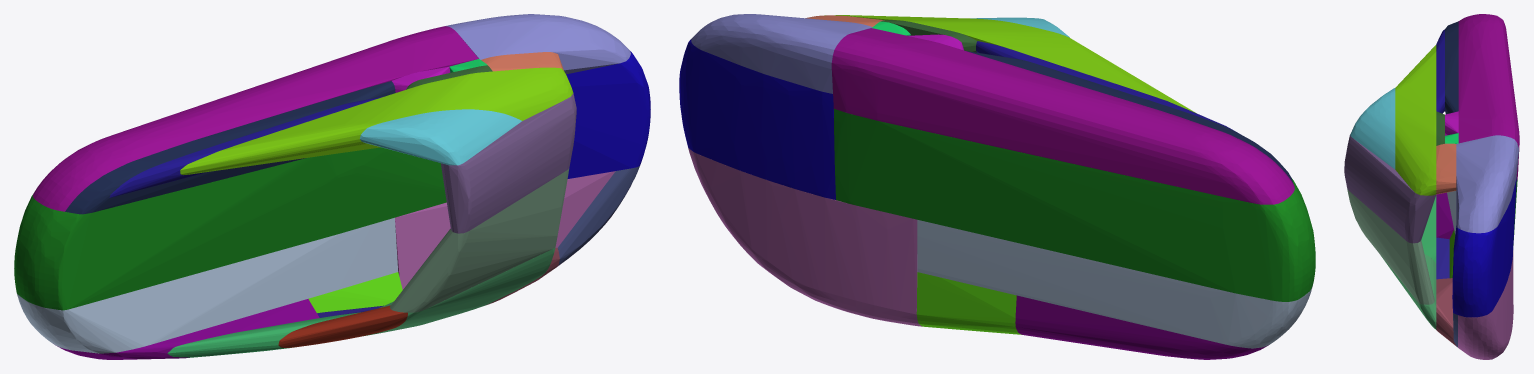
Rendered from coacd_collision.obj.
3 views of the same model, side by side, from view 1: azimuth 30°, elevation 25°; view 2: azimuth 150°, elevation 25°; view 3: azimuth 270°, elevation 25° (orthographic). The views are drawn at different scales.
Visible parts, largest first — view 1: geometry_8, geometry_6, geometry_14, geometry_4, geometry_0, geometry_1, geometry_5, geometry_12, geometry_21, geometry_2, geometry_7, geometry_3 (+9 smaller); view 2: geometry_8, geometry_14, geometry_7, geometry_6, geometry_5, geometry_12, geometry_11, geometry_4, geometry_17, geometry_21, geometry_20, geometry_19 (+1 smaller); view 3: geometry_14, geometry_12, geometry_4, geometry_5, geometry_1, geometry_0, geometry_7, geometry_2, geometry_21, geometry_9, geometry_13, geometry_3 (+9 smaller).
Part boxes in pixels (bbox=[...]): geometry_8: bbox=[14, 147, 446, 310]; geometry_6: bbox=[17, 217, 398, 353]; geometry_14: bbox=[33, 26, 478, 211]; geometry_4: bbox=[180, 67, 573, 175]; geometry_0: bbox=[389, 168, 569, 312]; geometry_1: bbox=[441, 93, 576, 233]; geometry_5: bbox=[566, 51, 650, 178]; geometry_12: bbox=[445, 14, 630, 74]; geometry_21: bbox=[65, 81, 395, 214]; geometry_2: bbox=[360, 109, 521, 165]; geometry_7: bbox=[395, 171, 630, 289]; geometry_3: bbox=[375, 247, 555, 333]; geometry_8: bbox=[833, 109, 1315, 301]; geometry_14: bbox=[831, 28, 1294, 204]; geometry_7: bbox=[688, 148, 921, 326]; geometry_6: bbox=[917, 220, 1312, 348]; geometry_5: bbox=[679, 39, 835, 199]; geometry_12: bbox=[691, 14, 872, 93]; geometry_11: bbox=[1015, 295, 1268, 359]; geometry_4: bbox=[824, 15, 1196, 113]; geometry_17: bbox=[916, 272, 1021, 334]; geometry_21: bbox=[965, 50, 1293, 183]; geometry_20: bbox=[976, 41, 1237, 132]; geometry_19: bbox=[881, 20, 977, 52]; geometry_14: bbox=[1458, 14, 1519, 180]; geometry_12: bbox=[1456, 135, 1518, 233]; geometry_4: bbox=[1395, 45, 1436, 195]; geometry_5: bbox=[1452, 177, 1516, 317]; geometry_1: bbox=[1344, 135, 1436, 243]; geometry_0: bbox=[1347, 189, 1434, 304]; geometry_7: bbox=[1458, 250, 1513, 359]; geometry_2: bbox=[1350, 88, 1395, 169]; geometry_21: bbox=[1445, 21, 1458, 114]; geometry_9: bbox=[1436, 143, 1456, 194]; geometry_13: bbox=[1436, 278, 1456, 346]; geometry_3: bbox=[1380, 254, 1436, 329].
Size of the model in its own units: 271 by 113 by 85.9.
